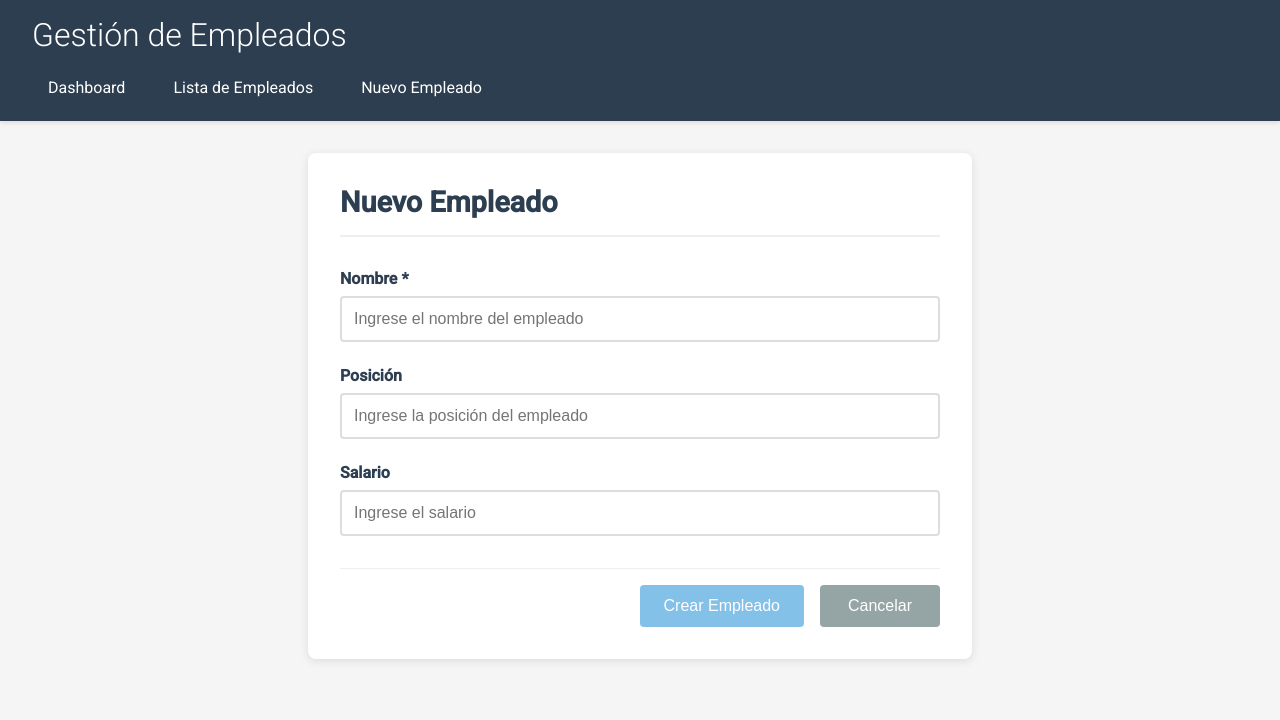
Test: Employee Form › Create Employee › should show validation error for short name
In the field named "name": (640, 319) [340,296,940,342], type "A"
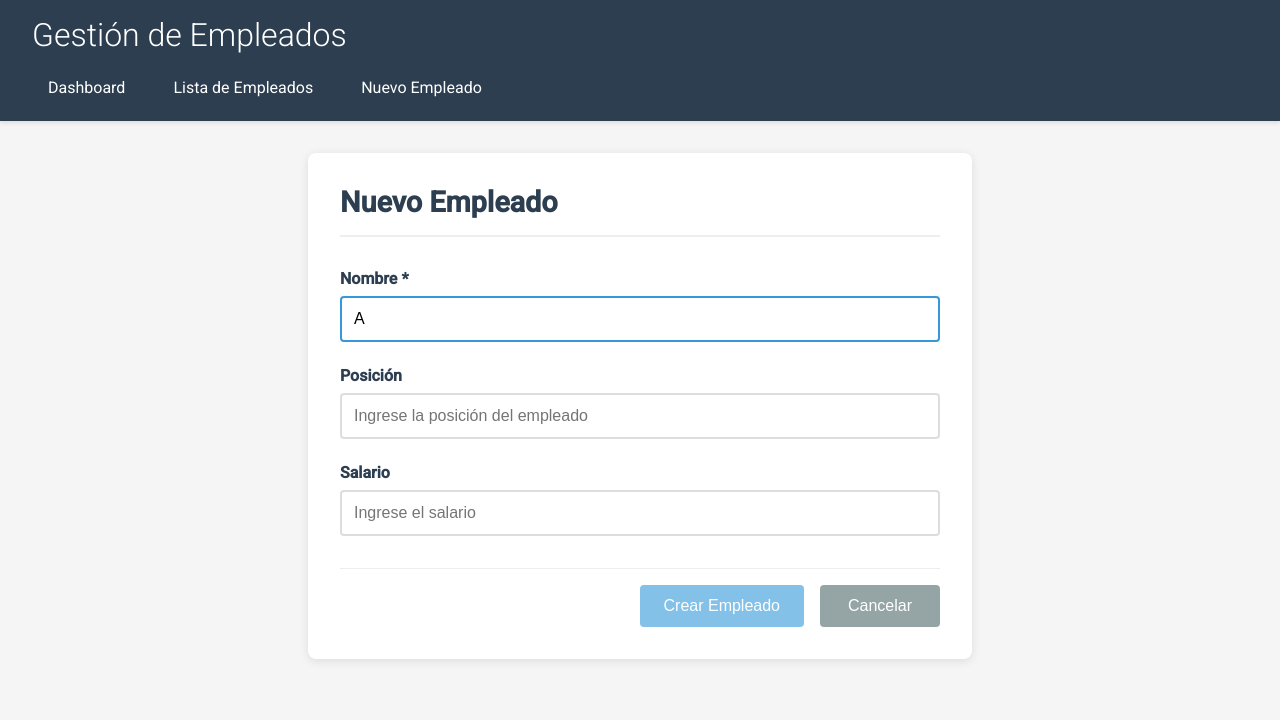
Leave the field named "name", box [340,296,940,342]
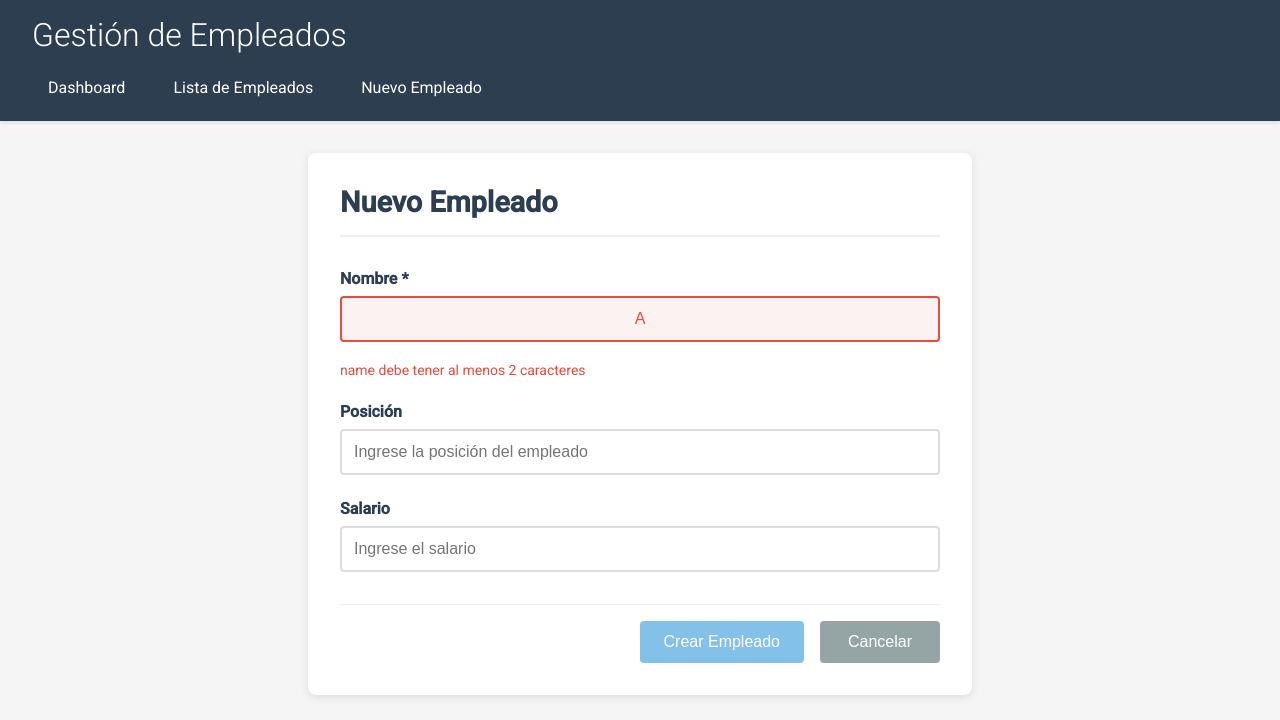
Result: the text "name debe tener al menos 2 caracteres" is shown at [340,362,586,378]
